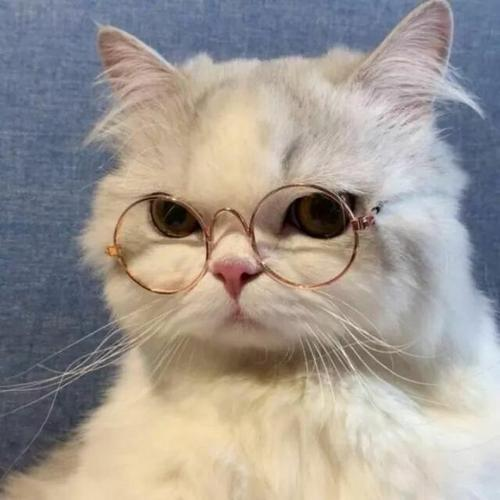cat: (75, 12, 476, 381)
